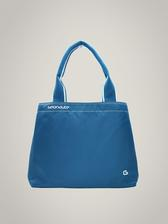bag: (26, 38, 142, 191)
